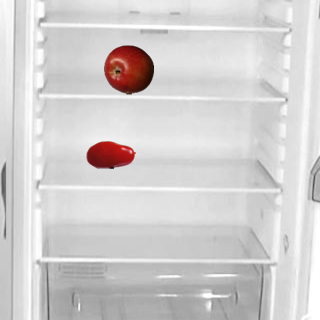Apple Braeburn: (103, 44, 153, 94)
Tomato 2: (85, 129, 135, 179)
